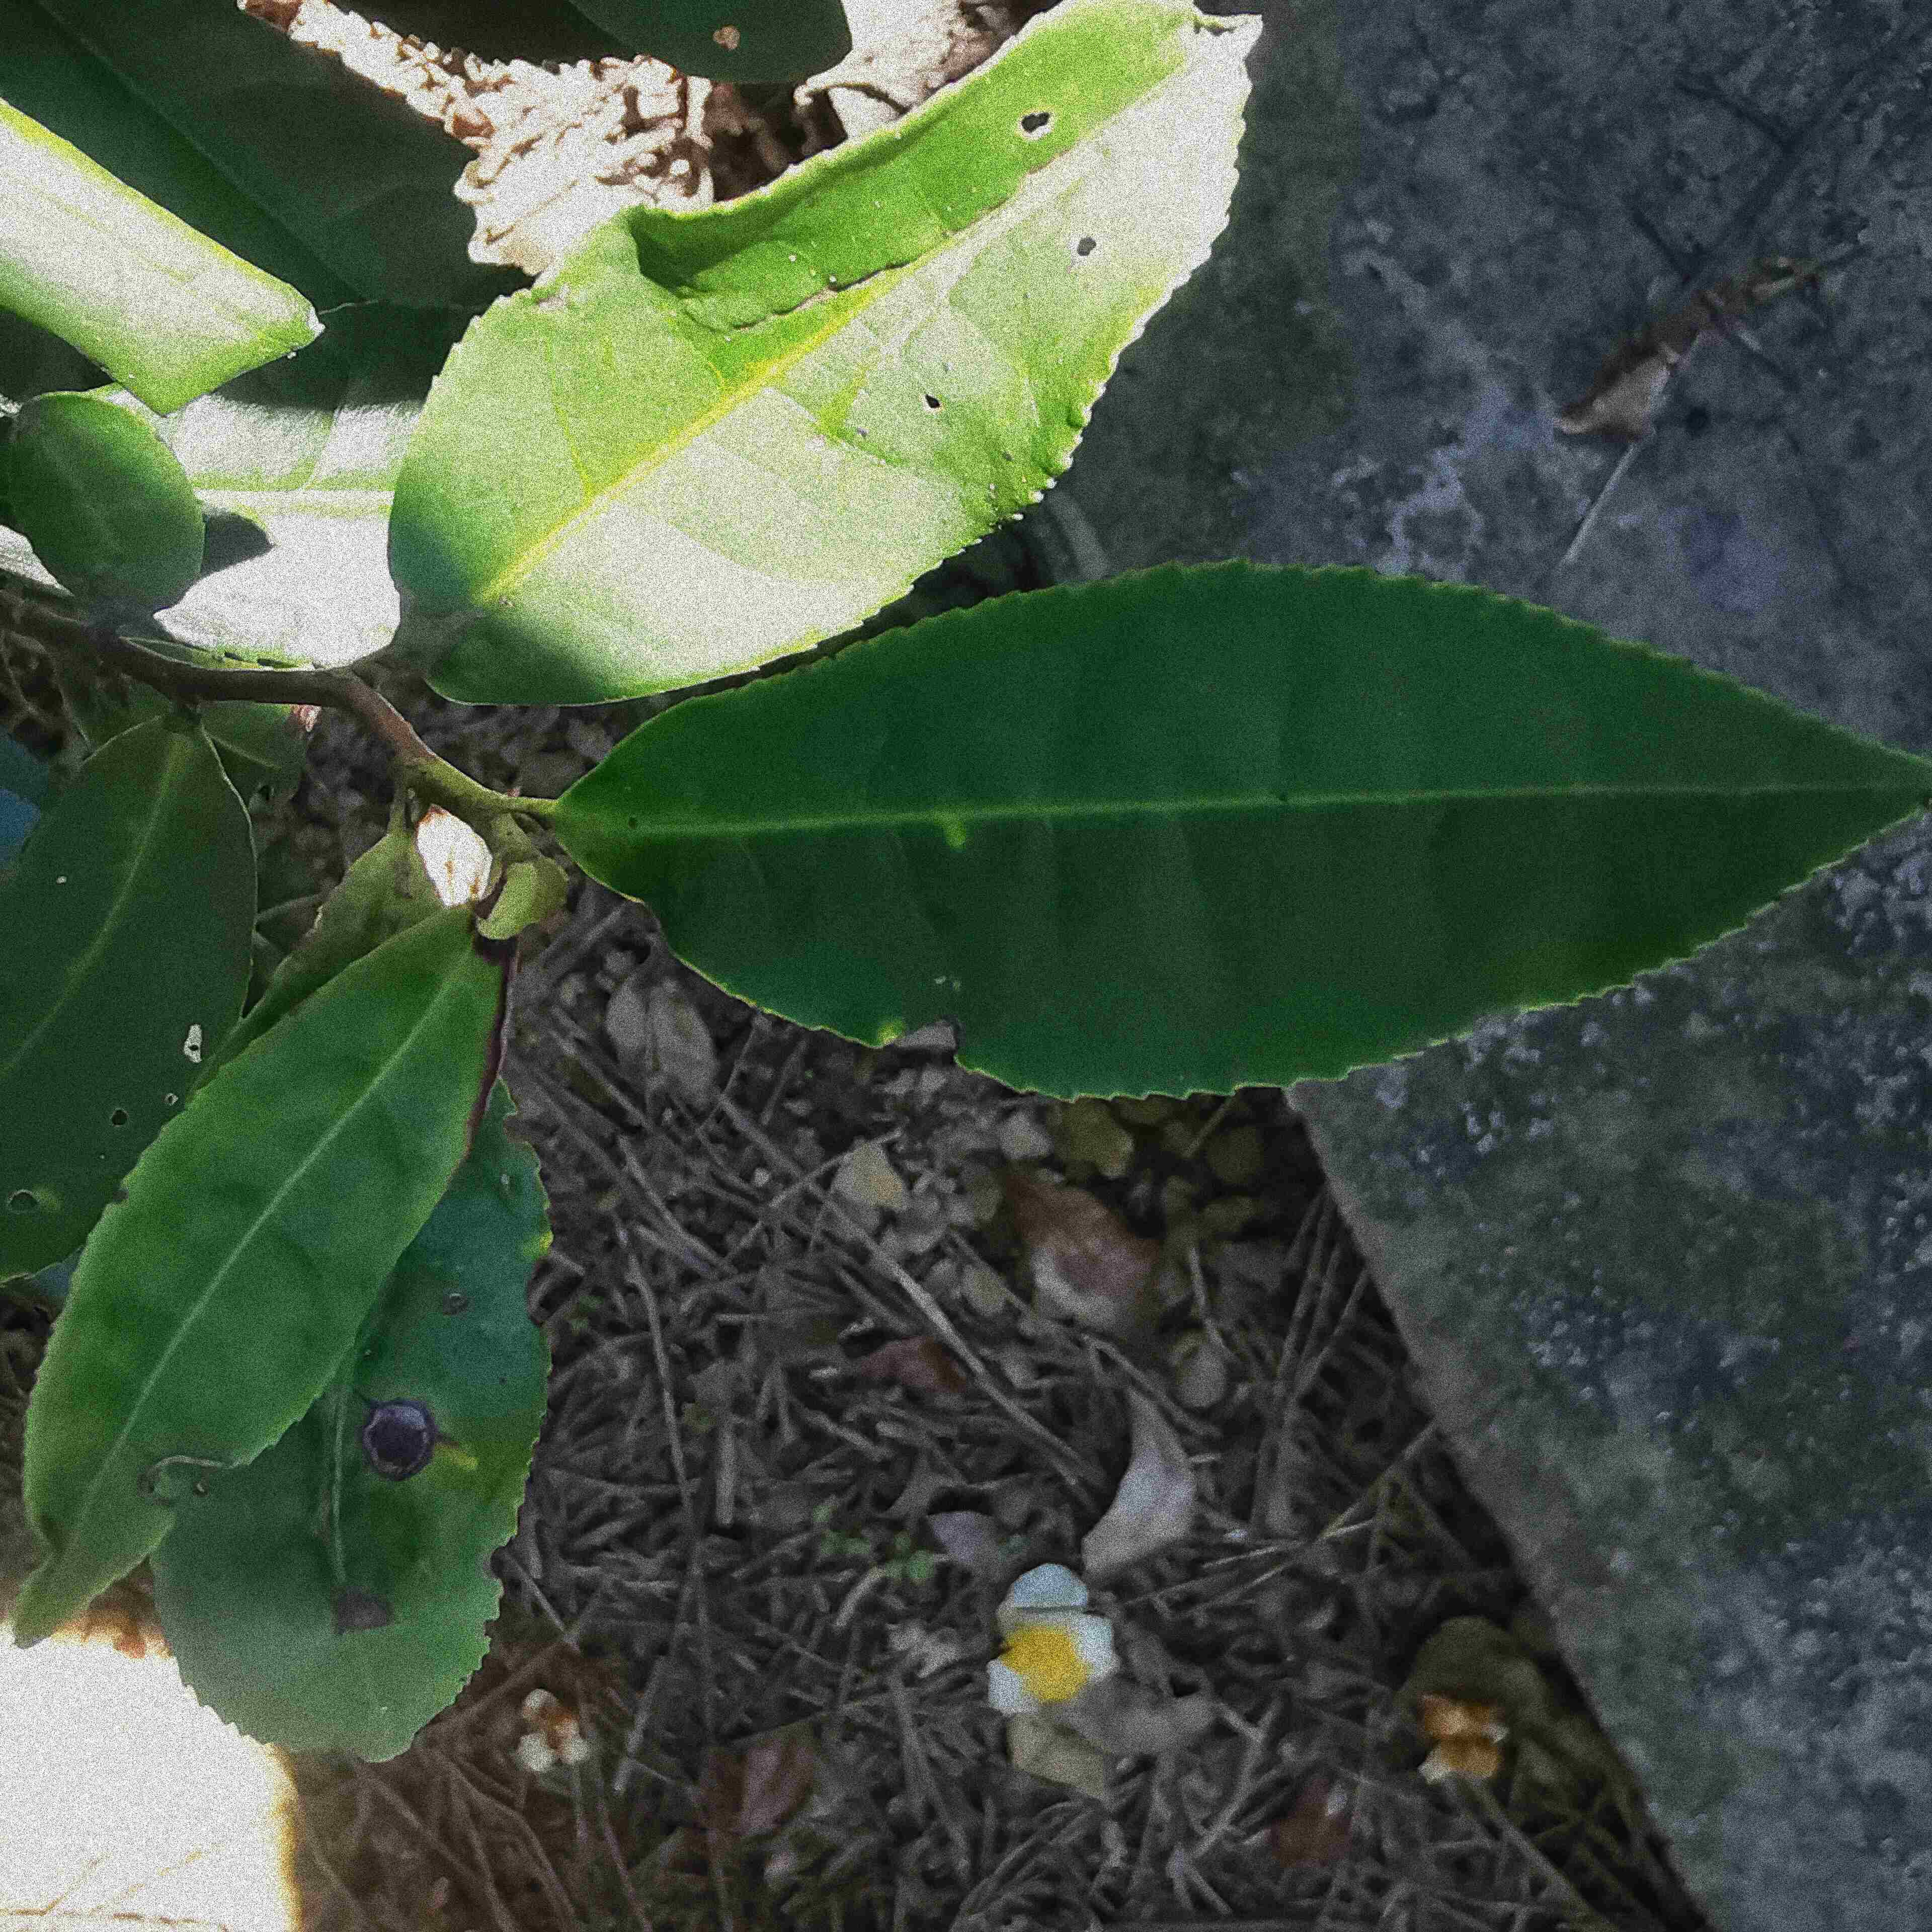chihuo_high: (384, 2, 1265, 717), (2, 711, 264, 1283)
chihuo_low: (545, 545, 1923, 1108), (11, 918, 502, 1660)
tanju_high: (143, 1069, 559, 1767)
